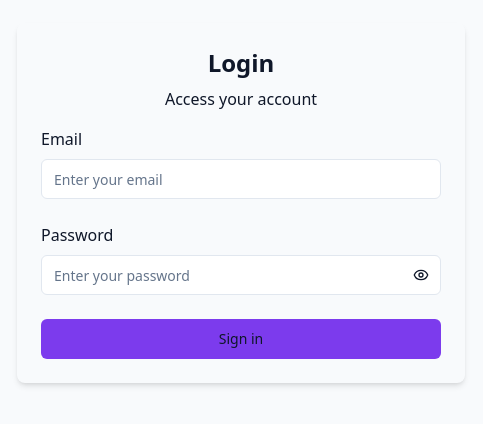
Test: LoginPage › handles login error
Step 1. Type "test@example.com" into the field labelled "Email" → (241, 179), box x1=41 y1=159 x2=441 y2=199
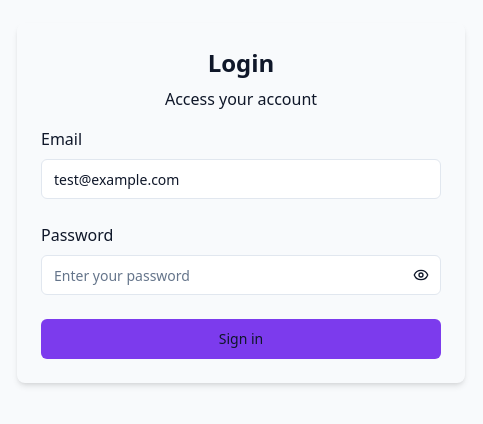
Step 2. Type "wrongpassword" into the password field labelled "Password" → (241, 275), box x1=41 y1=255 x2=441 y2=295
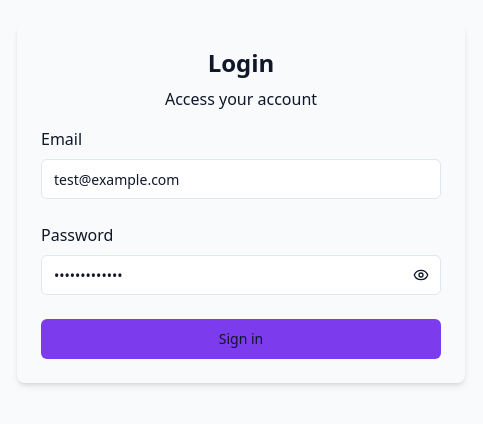
Step 3. Click the button "Sign in" → (241, 339), box x1=41 y1=319 x2=441 y2=359
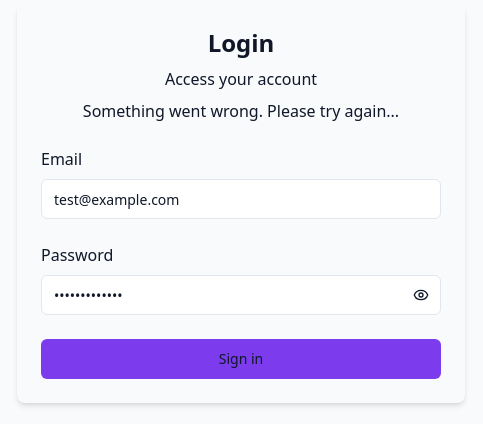
Now the text "Something went wrong. Please try again..." is shown, box x1=83 y1=100 x2=399 y2=122
